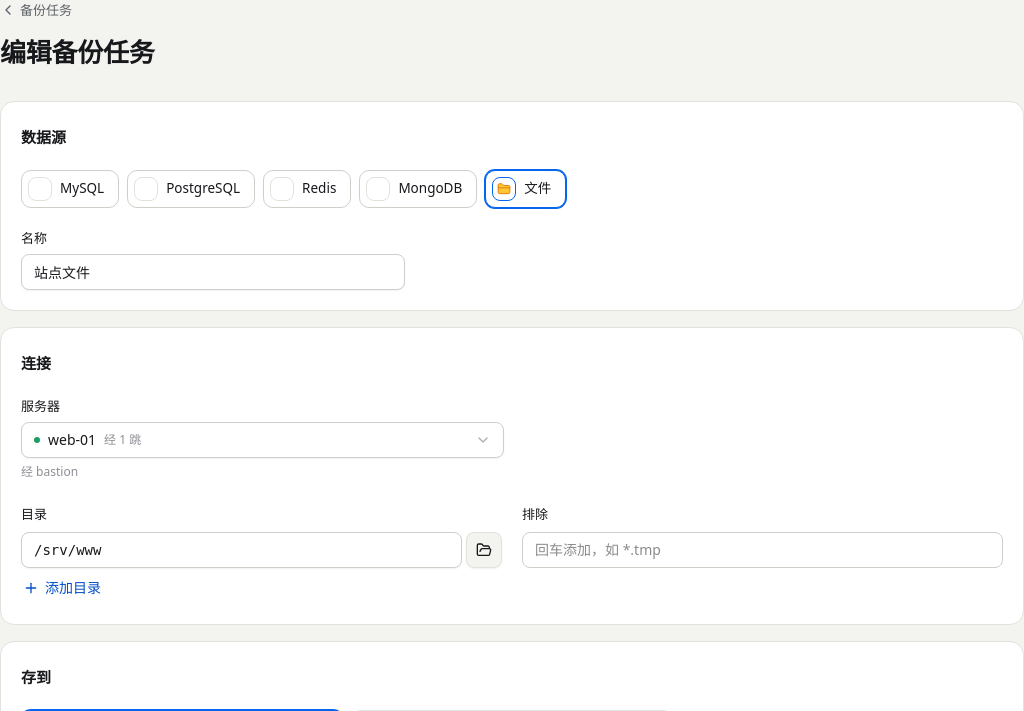
Scenario: 目录浏览 › 读不了时写明是哪个目录，并给退路
The width and height of the screenshot is (1024, 711).
Click the button named "浏览目录 1".
click(484, 550)  # box [466, 532, 502, 568]
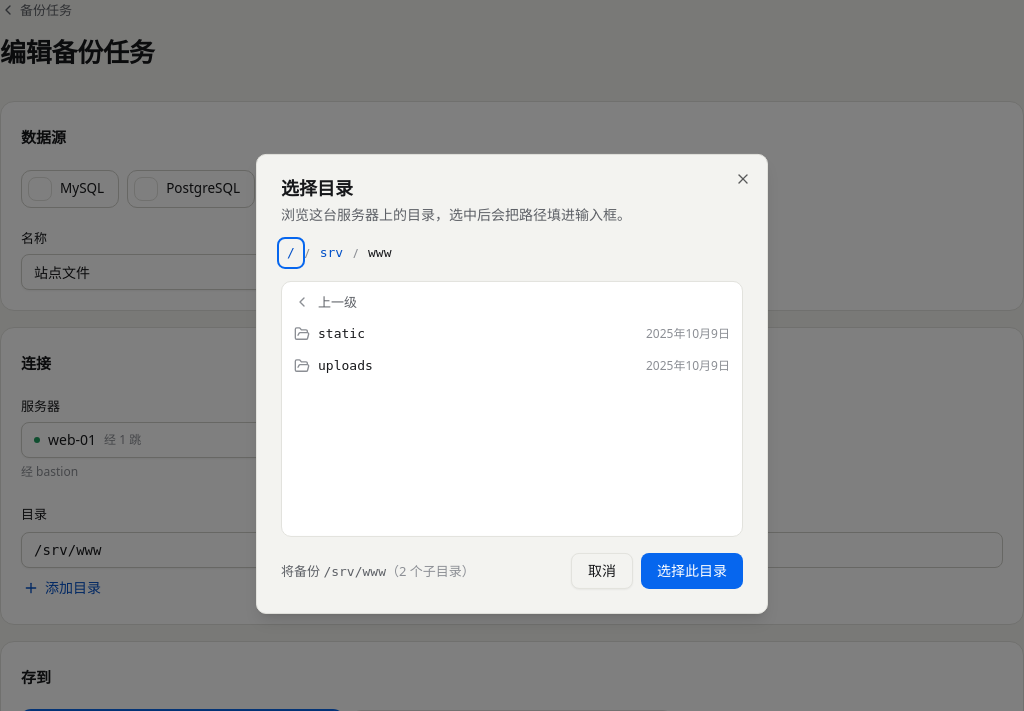
Click the button "uploads 2025年10月9日".
click(345, 366)  # box [286, 350, 738, 382]
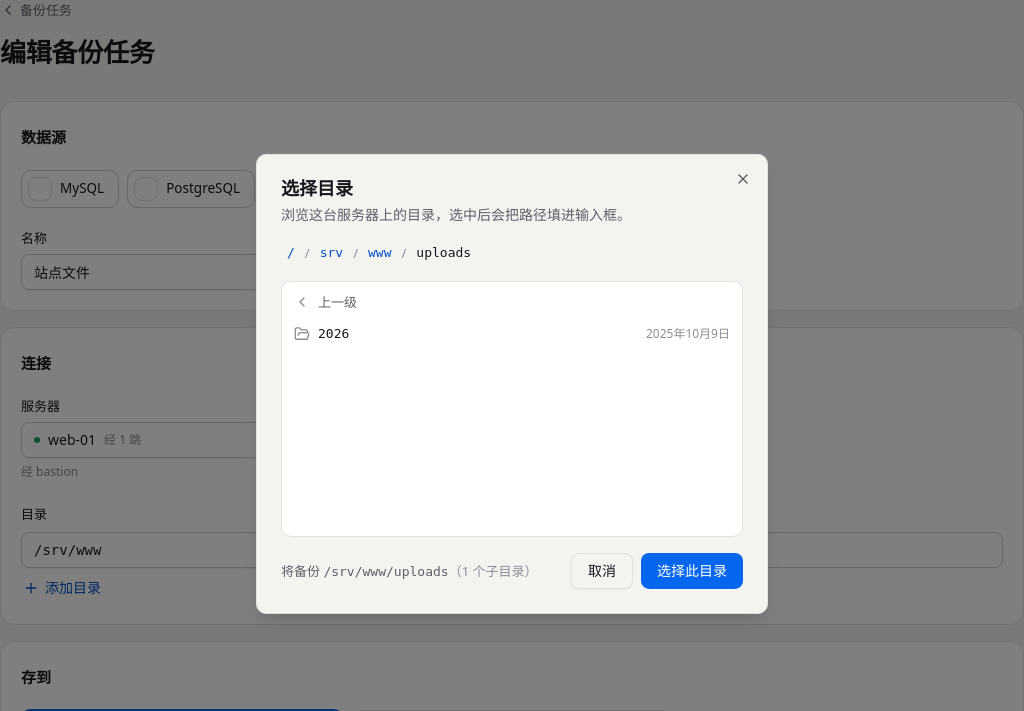
Click the button "选择此目录".
click(692, 571)  # box [641, 553, 743, 589]
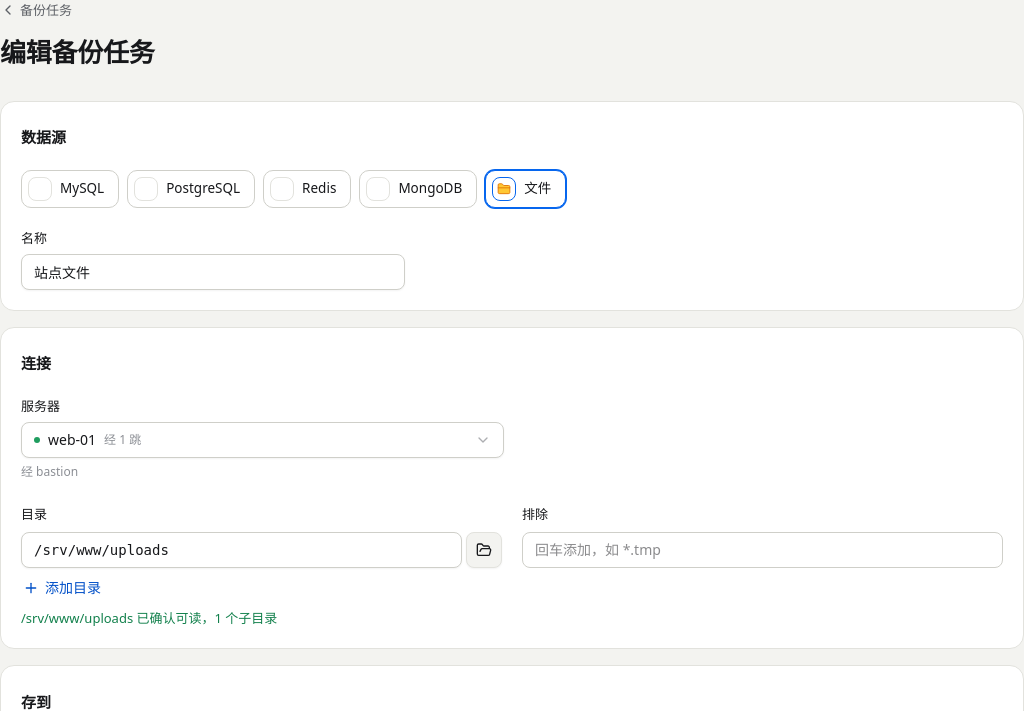
# 手工改到不存在的目录后重新浏览
Replace the text in the field named "目录 1" with "/nope" at (242, 550), box [21, 532, 462, 568]
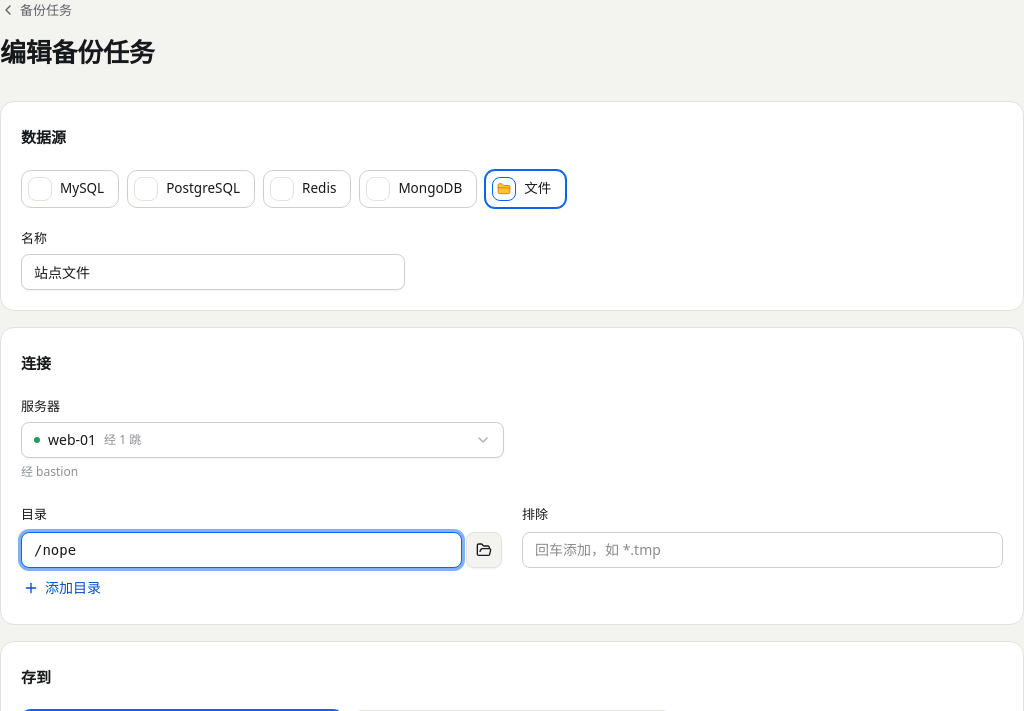
Click the button named "浏览目录 1".
click(484, 550)  # box [466, 532, 502, 568]
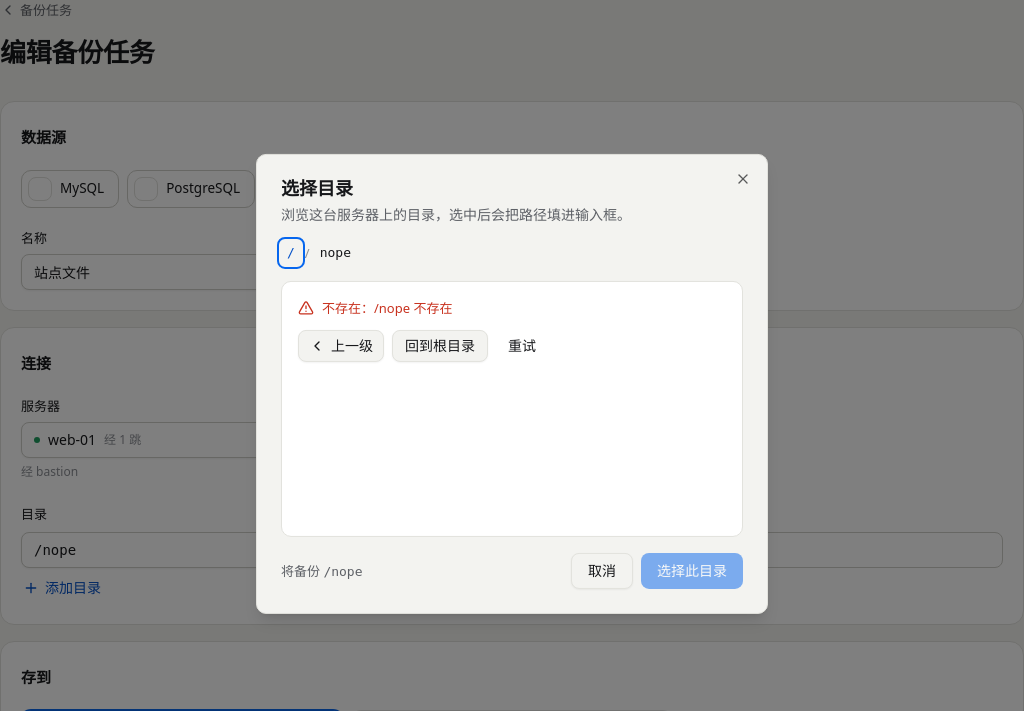
Expected: the message shows "/nope 不存在", [322, 299, 452, 317]
Expected: the button "回到根目录" is shown, [392, 330, 488, 362]
Expected: the button "选择此目录" is disabled, [641, 553, 743, 589]
